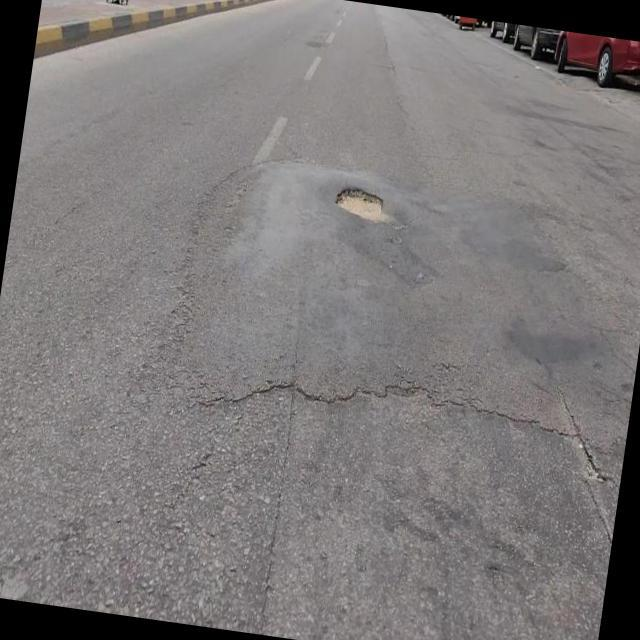Pothole: (335, 184, 384, 226)
